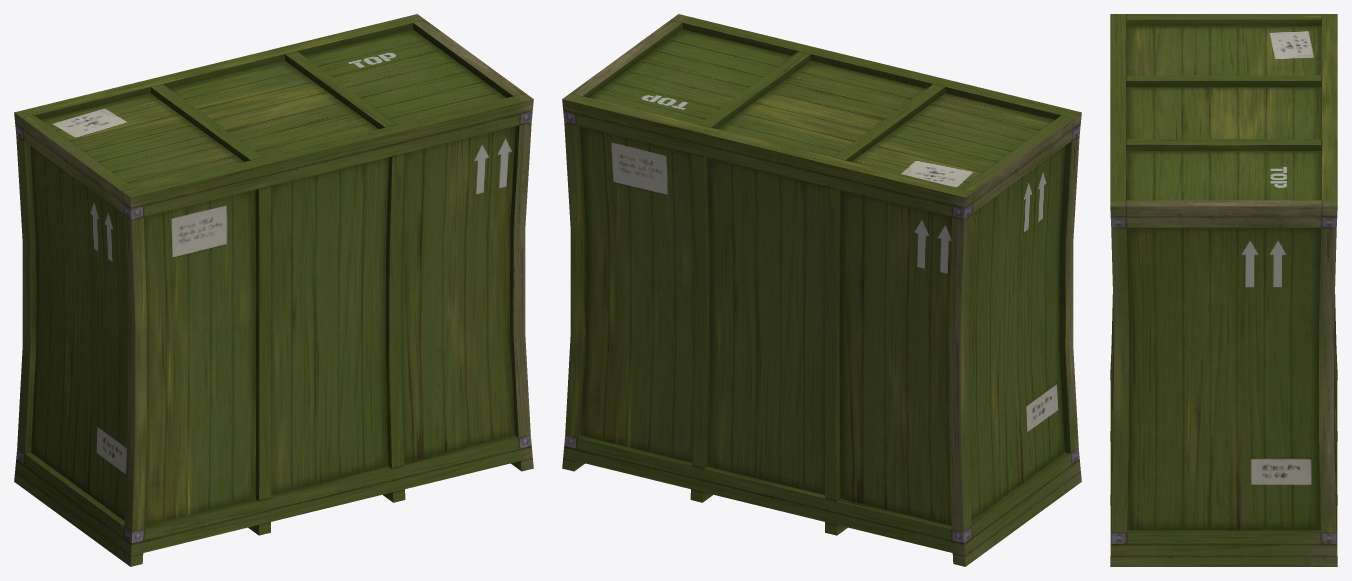
The model's file is Crate02_1.FBX.
The picture shows the model from 3 angles, left to right: view 1: azimuth 30°, elevation 25°; view 2: azimuth 150°, elevation 25°; view 3: azimuth 270°, elevation 25°; orthographic projection. The views are drawn at different scales.
Parts seen in each view (by area): view 1: Crate02_1; view 2: Crate02_1; view 3: Crate02_1.
Boxes of the visible parts, x1,y1,x2,y2 form: Crate02_1: [14, 14, 533, 566]; Crate02_1: [562, 14, 1081, 566]; Crate02_1: [1110, 14, 1337, 566].
Size of what is drawn, in the model's own units: 2 by 1.75 by 1.
